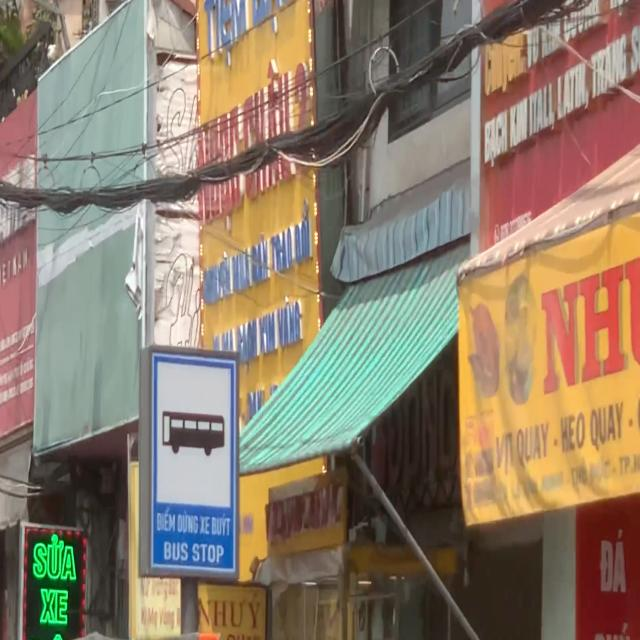Ben xe buyt: (150, 350, 238, 576)
